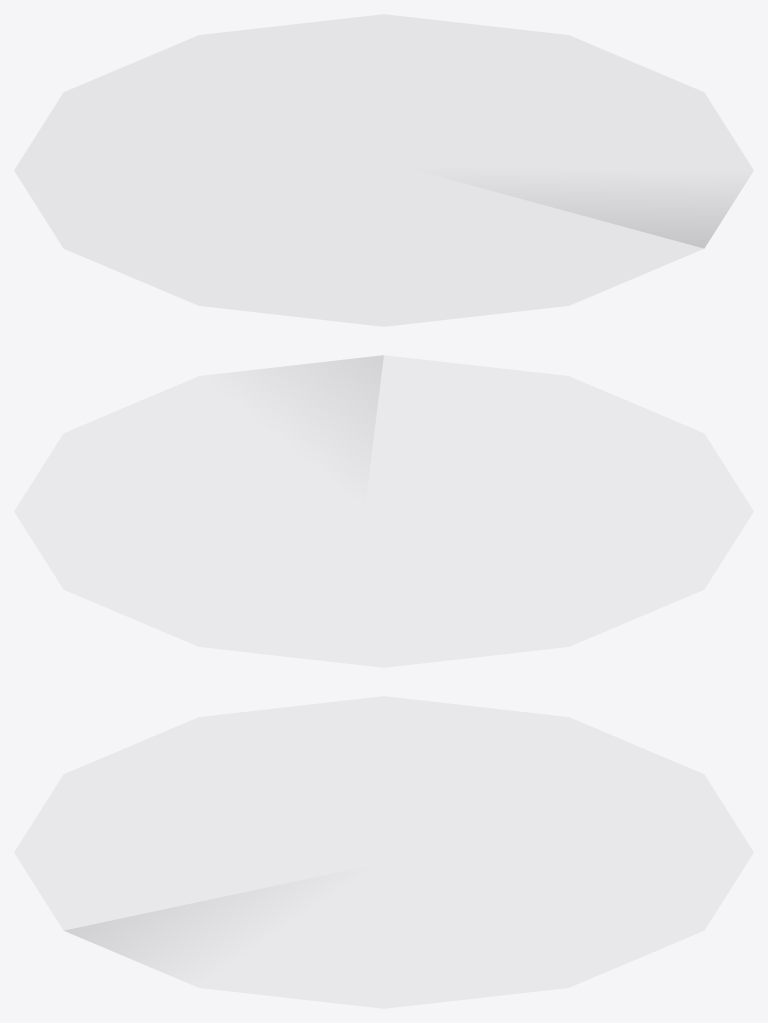
3 views of the same model, one above another, from view 1: azimuth 30°, elevation 25°; view 2: azimuth 150°, elevation 25°; view 3: azimuth 270°, elevation 25° (orthographic).
Parts seen in each view (by area): view 1: Joint_0_Object_0; view 2: Joint_0_Object_0; view 3: Joint_0_Object_0.
Boxes of the visible parts, x1,y1,x2,y2 form: Joint_0_Object_0: (492, 190, 738, 248); Joint_0_Object_0: (253, 355, 383, 463); Joint_0_Object_0: (64, 882, 292, 970).
Bounding box in the file's own units: 200 × 0.2764 × 200.
Materials: 1 (1 with a texture image).
